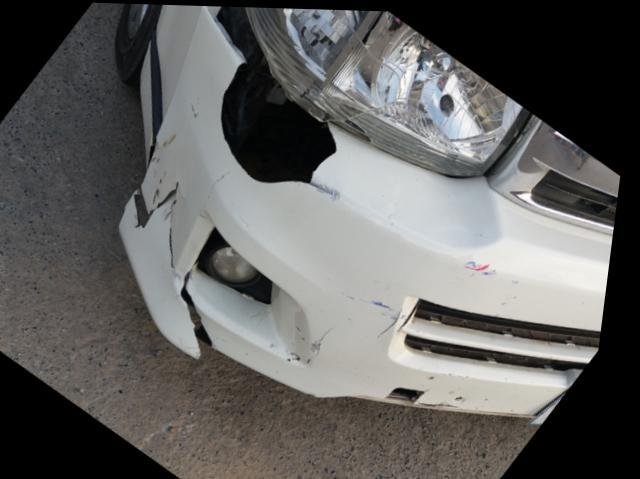crack: (217, 44, 345, 193), (138, 183, 188, 271), (182, 261, 224, 357), (404, 294, 427, 332)
dislocated part: (119, 5, 620, 417)
lamp broken: (246, 6, 529, 173)
